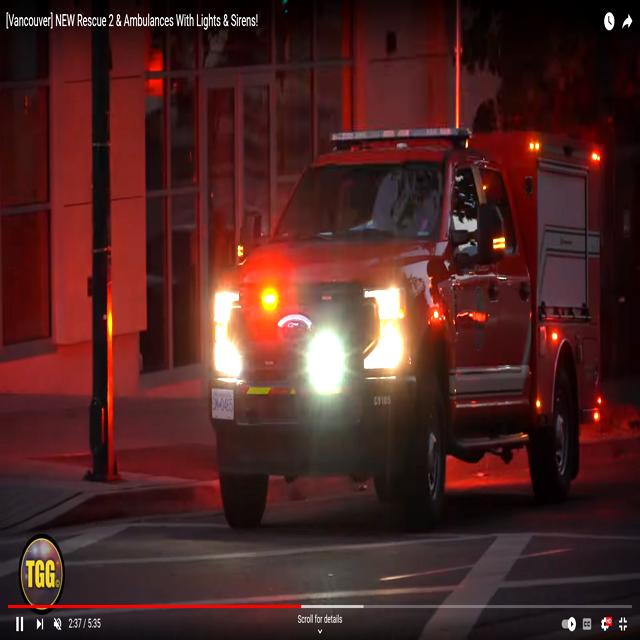emergency-vehicles: (191, 106, 624, 528)
